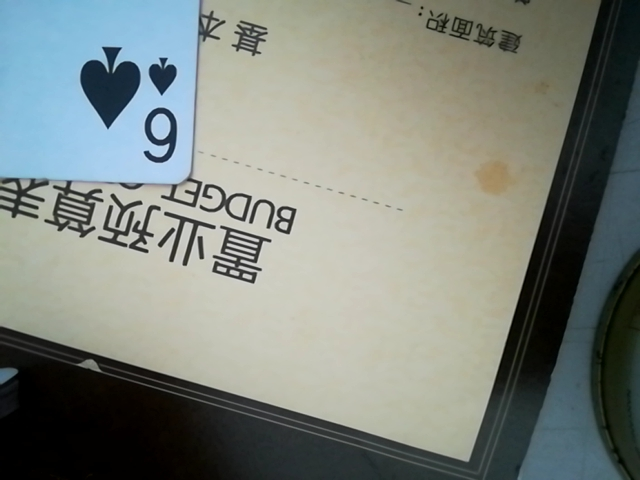ht 6: (1, 0, 209, 190)
